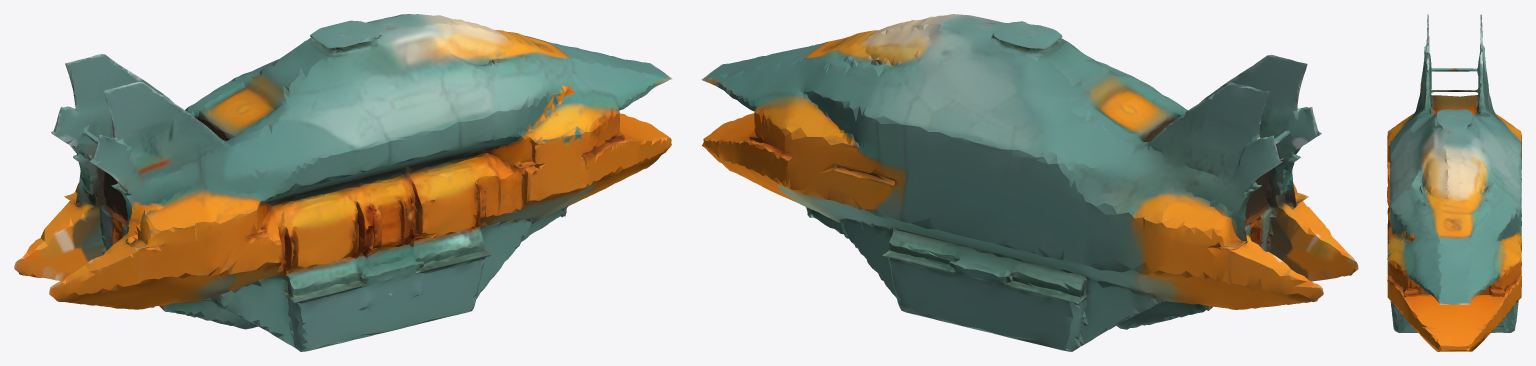
File: hauler_frigate.glb
The picture shows the model from 3 angles, left to right: view 1: azimuth 30°, elevation 25°; view 2: azimuth 150°, elevation 25°; view 3: azimuth 270°, elevation 25°; orthographic projection. The views are drawn at different scales.
Visible parts, largest first — view 1: hauler_frigate; view 2: hauler_frigate; view 3: hauler_frigate.
Boxes of the visible parts, x1=… form: hauler_frigate: x1=14, y1=14, x2=672, y2=351; hauler_frigate: x1=701, y1=14, x2=1358, y2=351; hauler_frigate: x1=1387, y1=14, x2=1521, y2=351.
Size of the model in its own units: 1.89 by 0.8283 by 0.502.
1 material, 1 textured.
